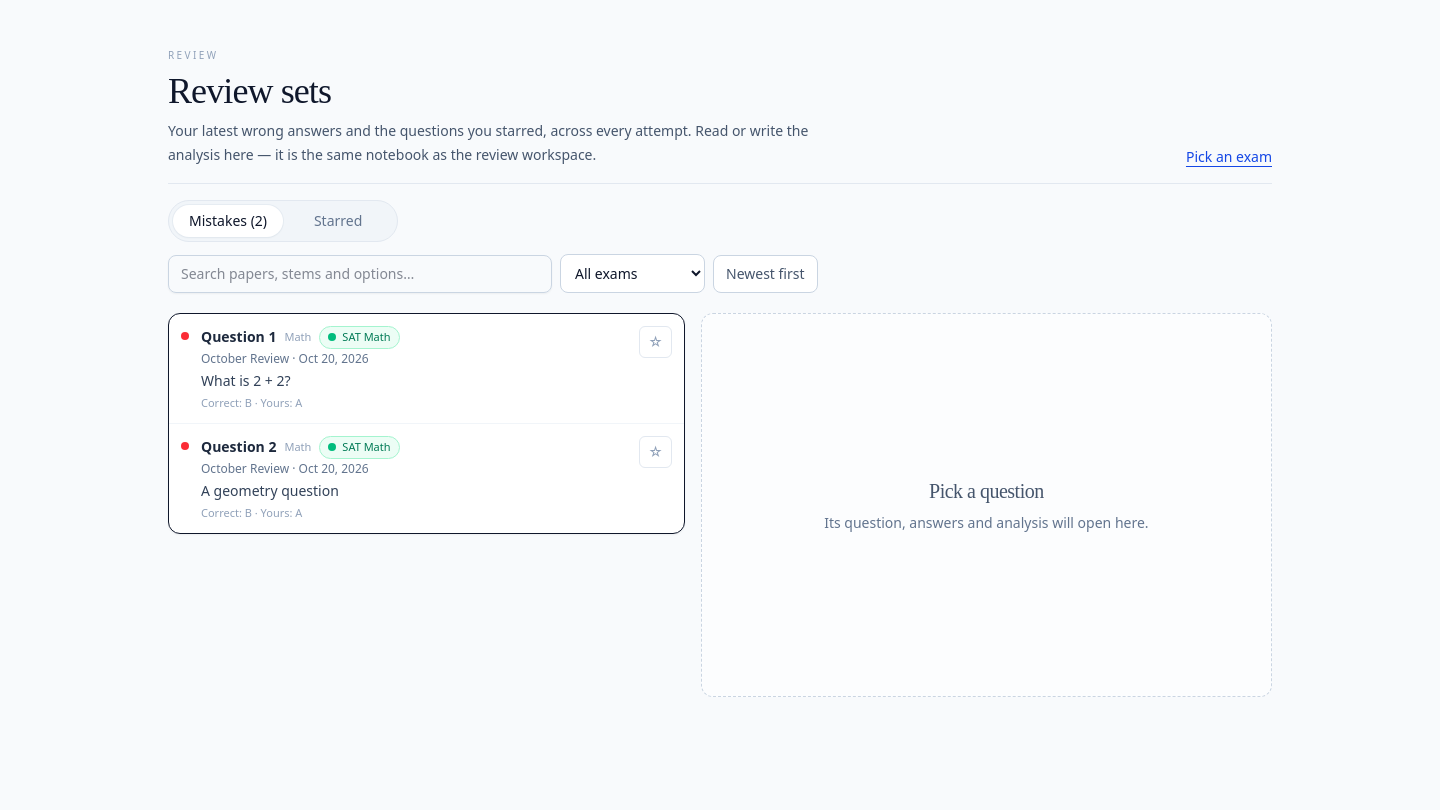
it: MistakesPage › searches papers, stems and options and stars a mistake
Expected: the text "A geometry question" is shown, [201, 480, 339, 500]
In the search field named "Search review sets": coordinates (360, 274) [168, 254, 552, 292], type "geometry"
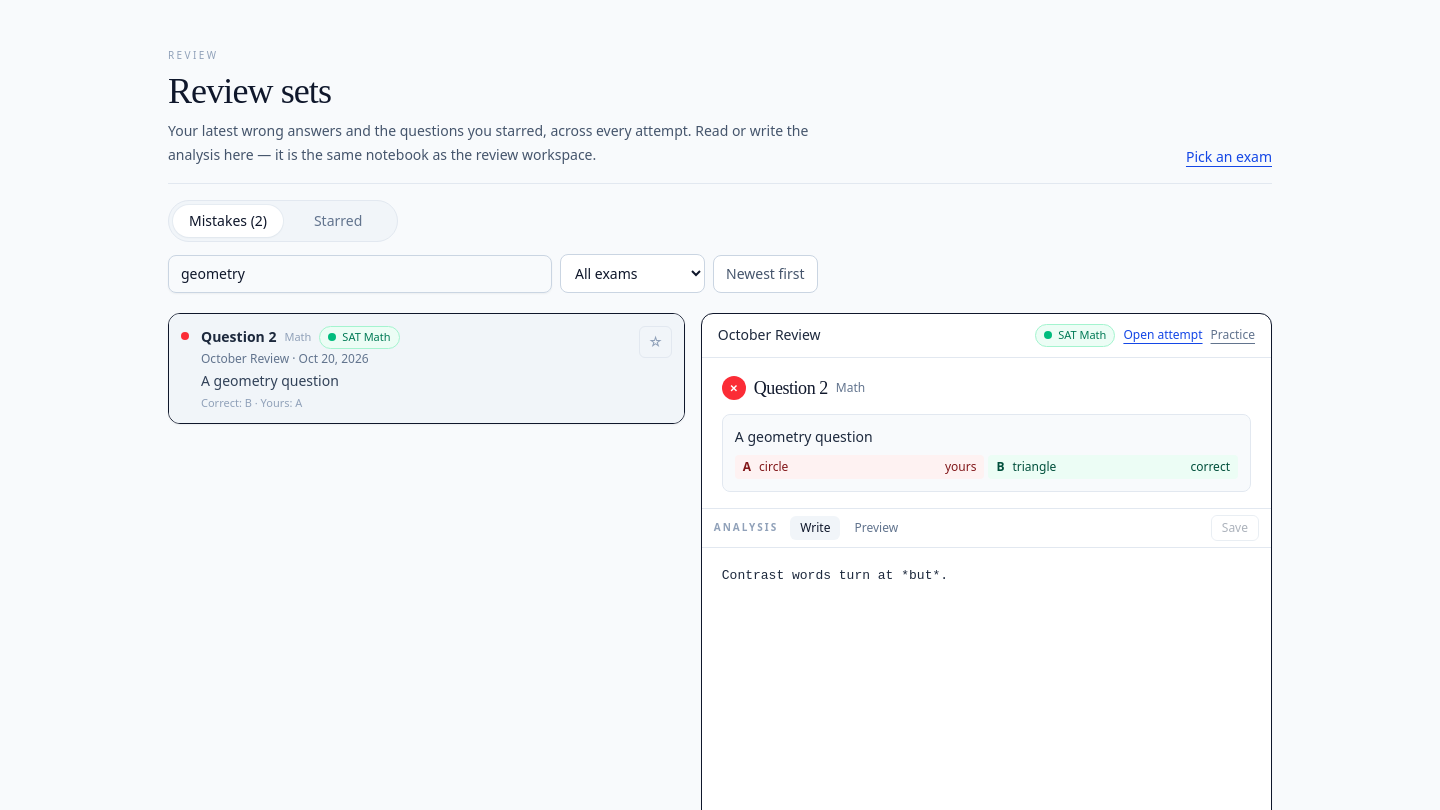
Expected: the 1st text "A geometry question" is shown, [201, 370, 339, 390]
Expected: the button "What is 2 + 2?" is gone
Clear the search field named "Search review sets": coordinates (360, 274) [168, 254, 552, 292]
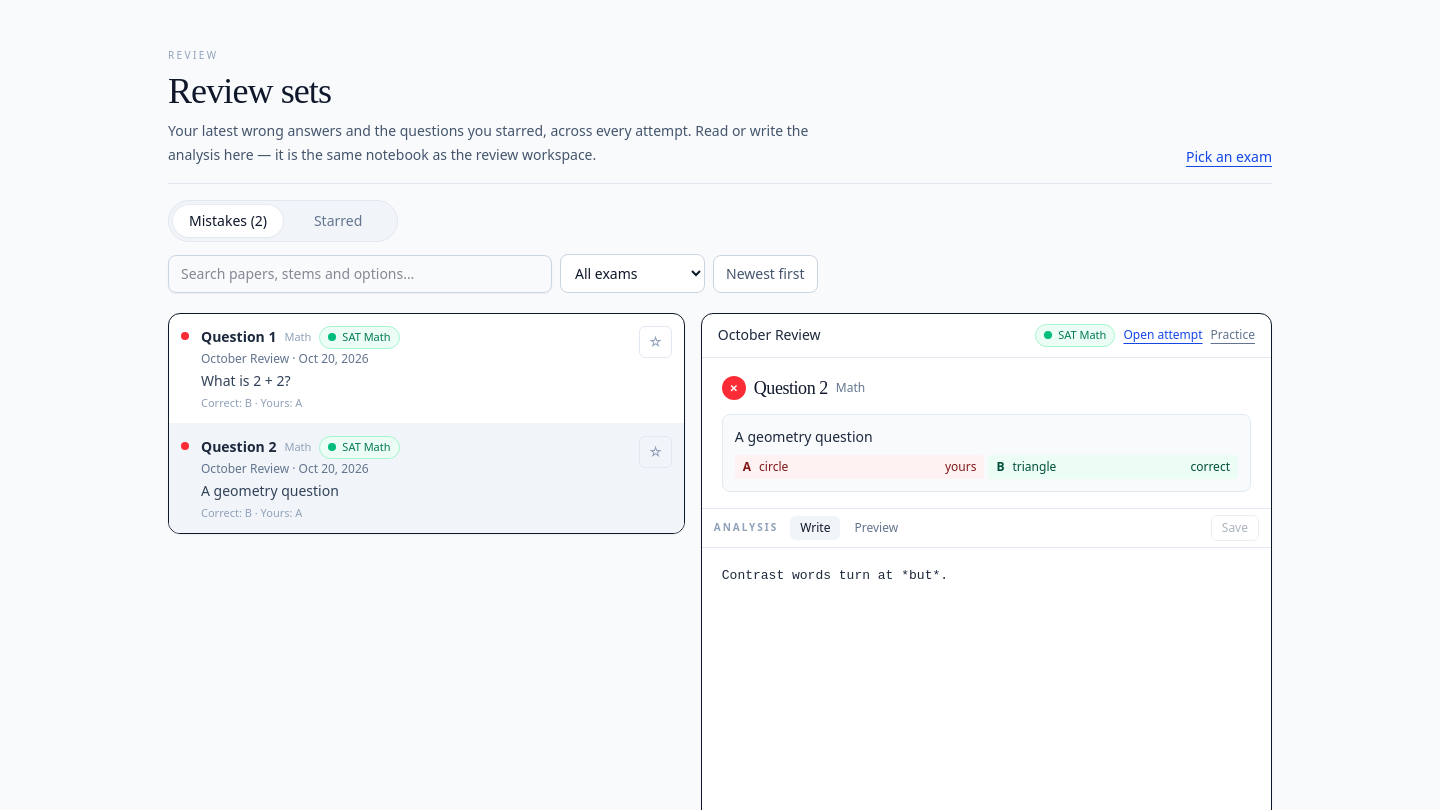
Click the button named "Star question 1": coordinates (656, 342) [639, 326, 672, 358]
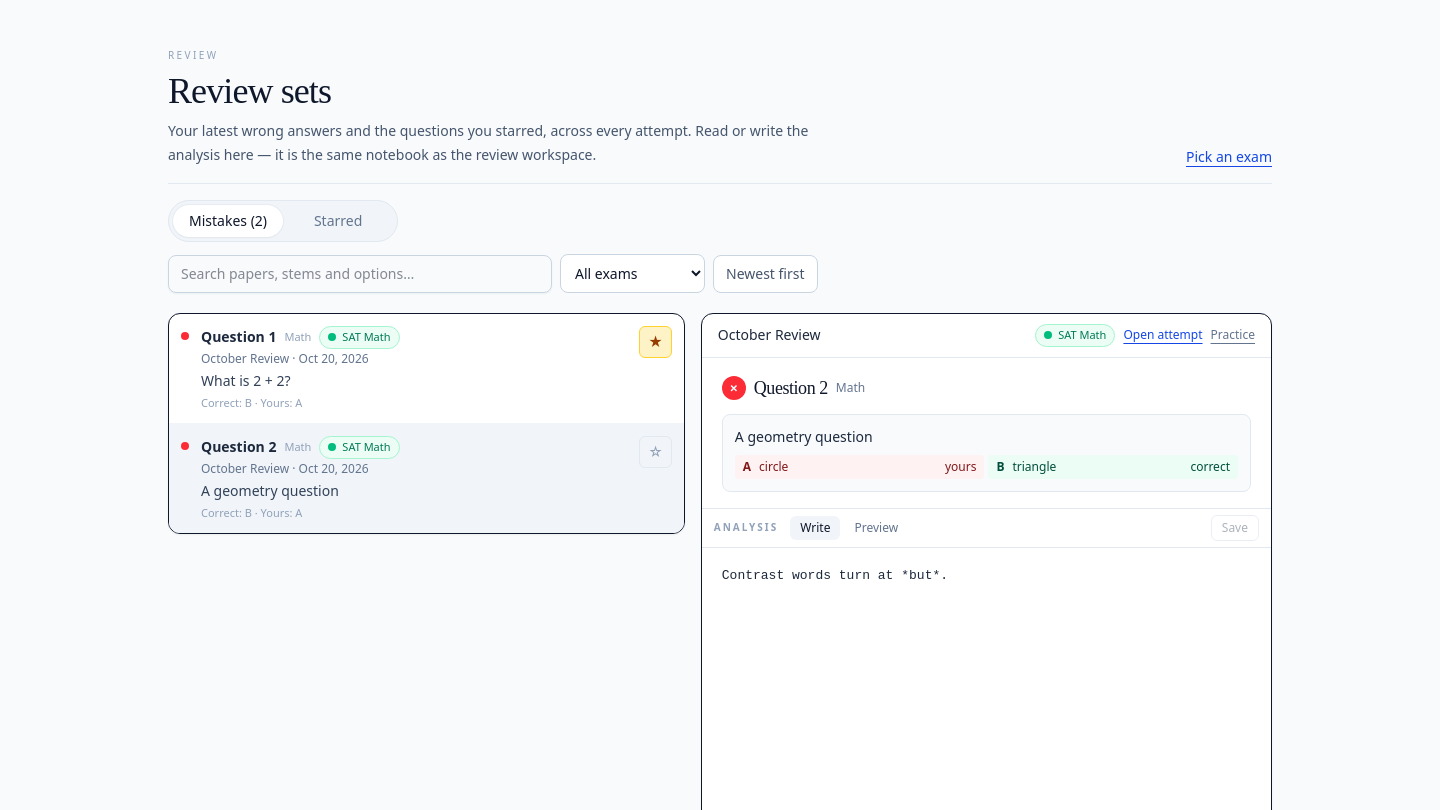
Expected: the button named "Unstar question 1" is shown, [639, 326, 672, 358]
